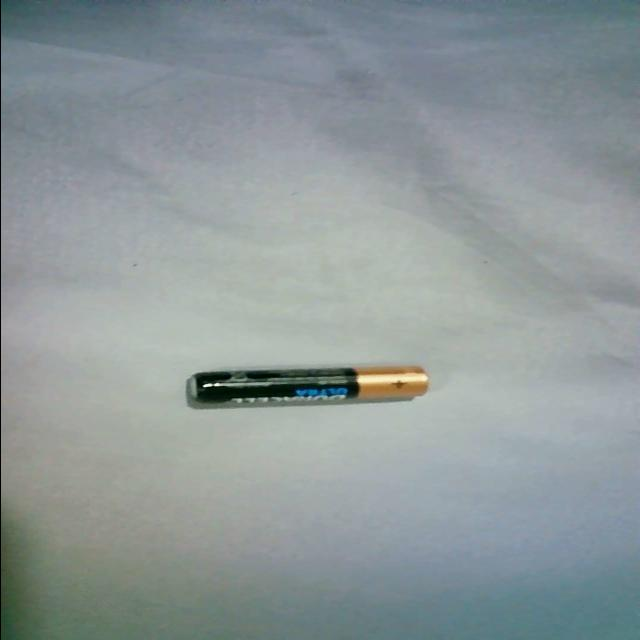AAA: (181, 360, 437, 413)
